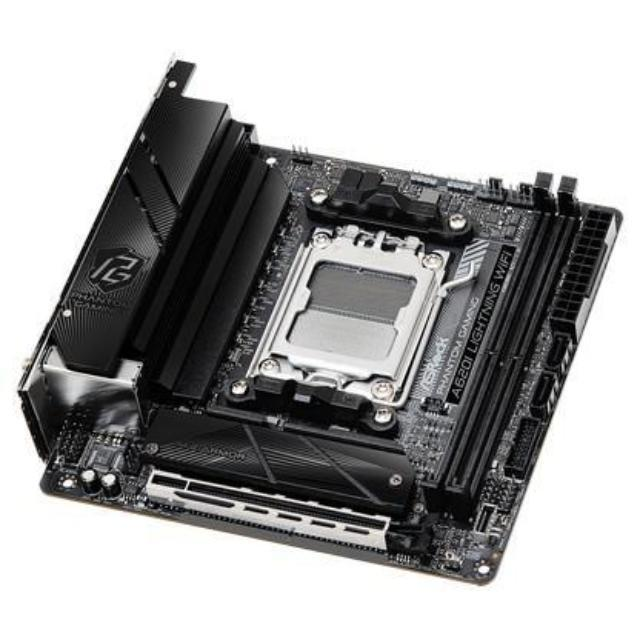Mainboard: (12, 52, 623, 590)
